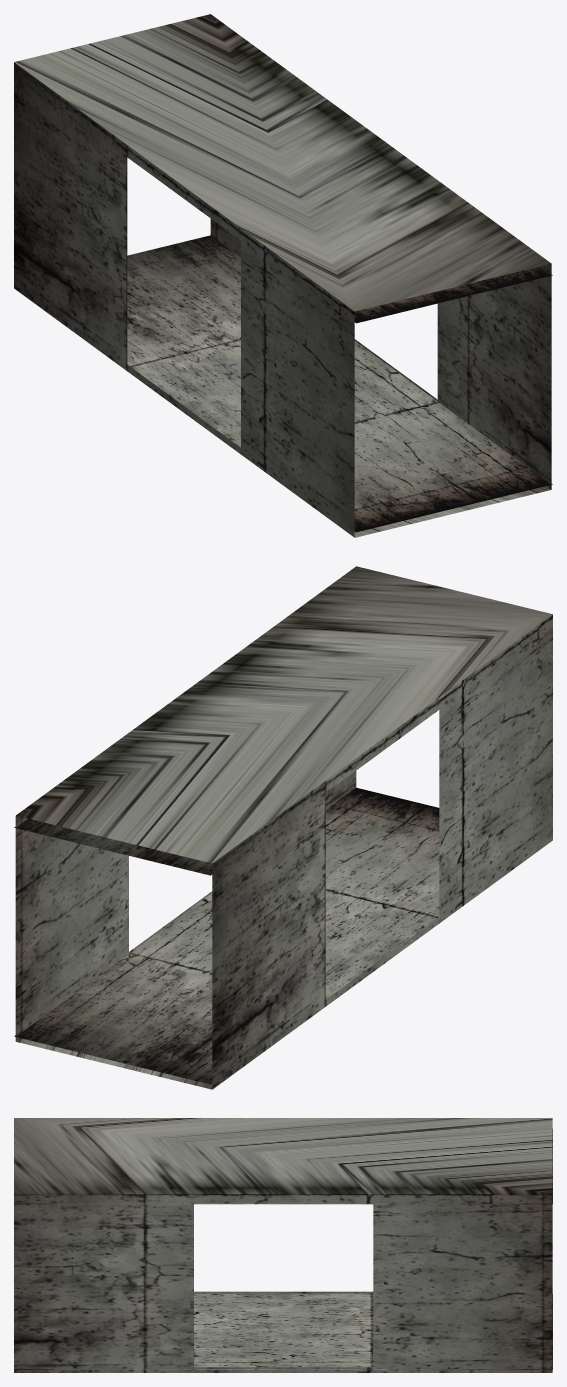
The model's file is PasilloUnion.glb.
The picture shows the model from 3 angles, top to bottom: view 1: azimuth 30°, elevation 25°; view 2: azimuth 150°, elevation 25°; view 3: azimuth 270°, elevation 25°; orthographic projection. The views are drawn at different scales.
Parts seen in each view (by area): view 1: Cubo, Plano, Plano.001; view 2: Cubo, Plano, Plano.001; view 3: Cubo, Plano, Plano.001.
Part boxes in pixels (bbox=[...]): Cubo: bbox=[14, 14, 551, 537]; Plano: bbox=[127, 235, 552, 532]; Plano.001: bbox=[354, 266, 552, 323]; Cubo: bbox=[15, 566, 552, 1089]; Plano: bbox=[14, 787, 439, 1084]; Plano.001: bbox=[14, 818, 212, 875]; Cubo: bbox=[14, 1118, 552, 1372]; Plano: bbox=[14, 1293, 552, 1369]; Plano.001: bbox=[14, 1129, 552, 1204].
Bounding box in the file's own units: 5.04 × 5.5 × 15.01.
Materials: 5 (5 with a texture image).
